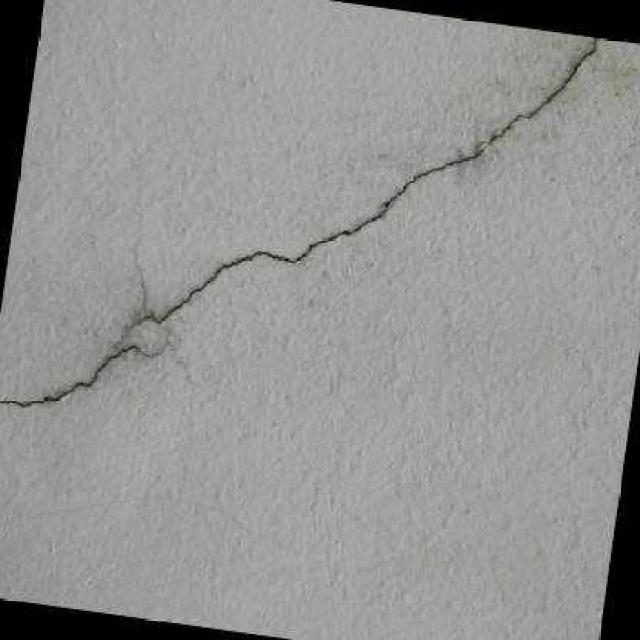D00: (135, 35, 603, 328), (0, 339, 136, 411)
